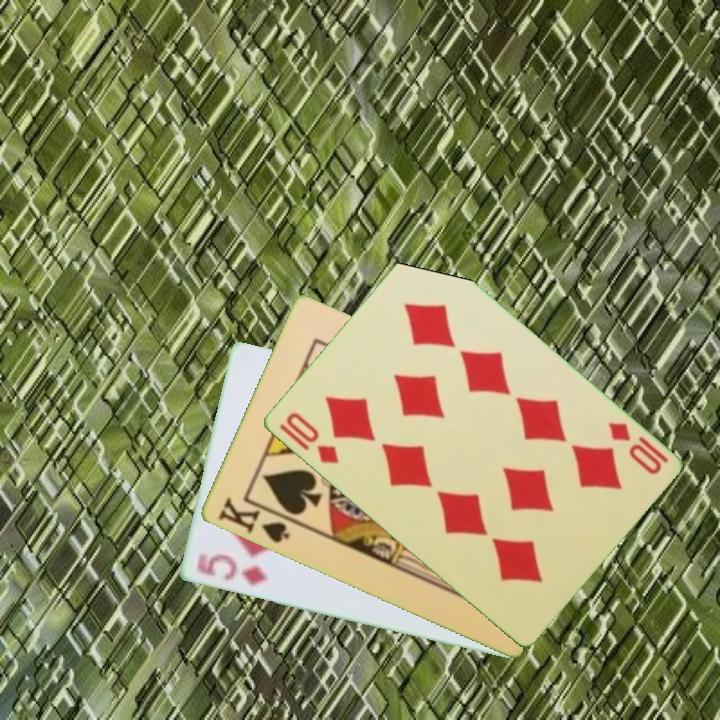10d: (603, 418, 671, 478), (282, 408, 341, 467)
5d: (192, 550, 270, 589)
Ks: (214, 493, 297, 547)
